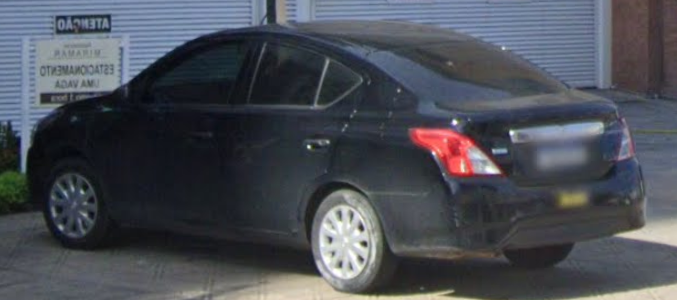car: (24, 21, 652, 291)
